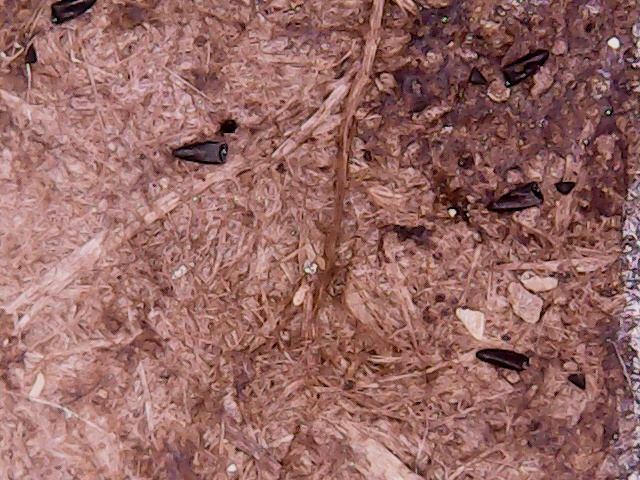full: (470, 332, 544, 389), (481, 168, 547, 225), (489, 34, 553, 89), (169, 134, 237, 177)
